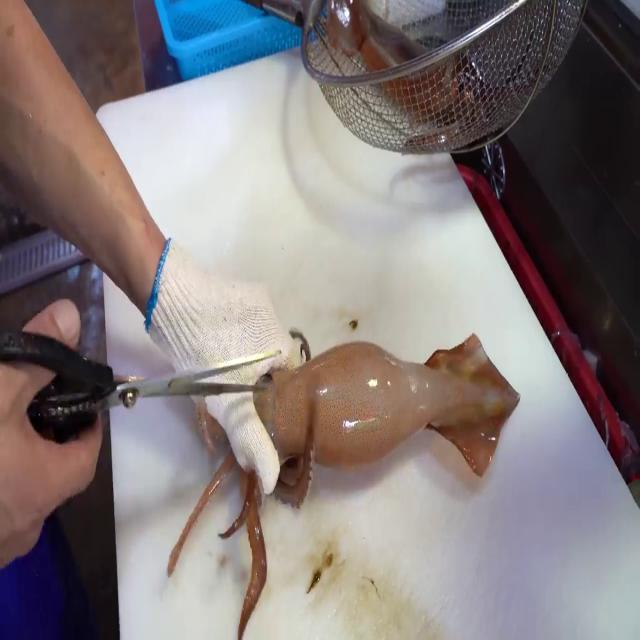squid: (168, 334, 521, 640)
